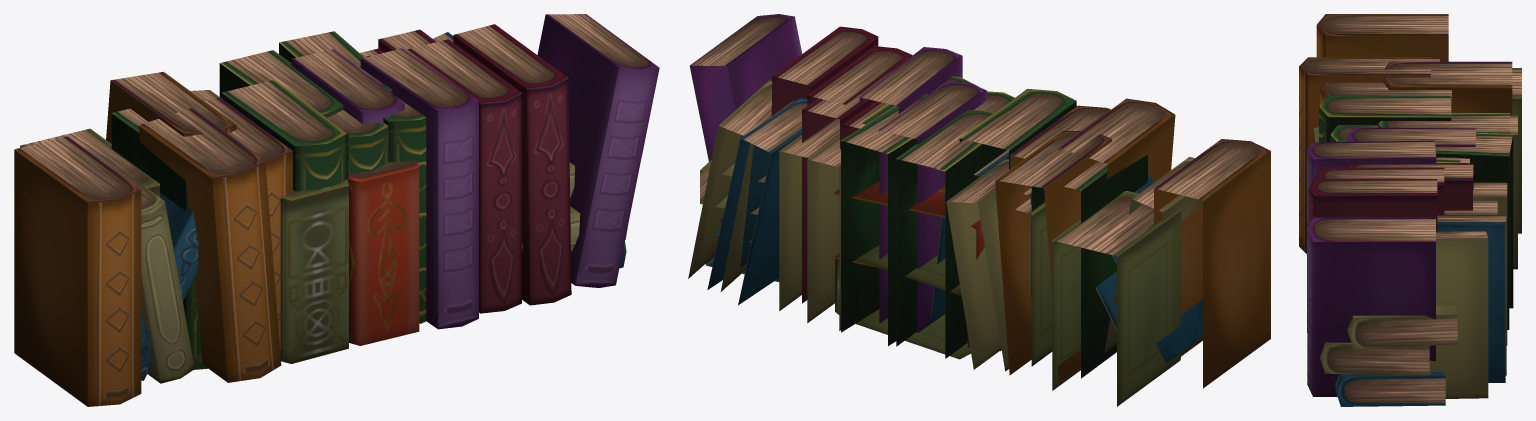
File: books.fbx
The picture shows the model from 3 angles, left to right: view 1: azimuth 30°, elevation 25°; view 2: azimuth 150°, elevation 25°; view 3: azimuth 270°, elevation 25°; orthographic projection. The views are drawn at different scales.
Visible parts, largest first — view 1: books_02, books_01, books_03, books_05, books_04; view 2: books_03, books_02, books_05, books_04, books_01; view 3: books_02, books_03, books_01, books_05.
Part boxes in pixels (x1,y1,x2,y2): books_02: [14, 14, 659, 406]; books_01: [141, 55, 628, 380]; books_03: [20, 31, 453, 196]; books_05: [291, 29, 454, 124]; books_04: [111, 108, 207, 369]; books_03: [688, 80, 1180, 406]; books_02: [689, 14, 1270, 388]; books_05: [802, 65, 1052, 364]; books_04: [833, 154, 1147, 378]; books_01: [700, 76, 1202, 363]; books_02: [1299, 14, 1448, 396]; books_03: [1378, 61, 1521, 398]; books_01: [1319, 82, 1460, 406]; books_05: [1347, 127, 1476, 210].
Size of the model in its own units: 2079 by 850 by 785.
